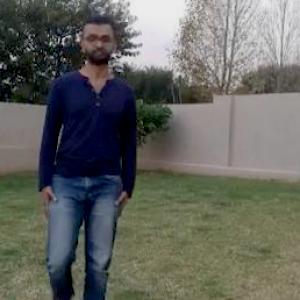follow: (30, 3, 142, 299)
